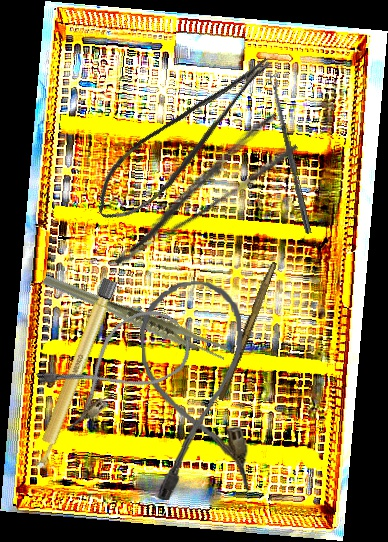Cannula: (137, 278, 253, 501), (34, 298, 199, 433)
Dressing Forceps: (93, 111, 302, 270)
Micro Scissor: (78, 50, 297, 233)
Scalpel Handle: (31, 277, 118, 471), (216, 259, 278, 403)
Surgical Spoon: (269, 74, 313, 235)
Tissue Forceps: (41, 243, 231, 390)
